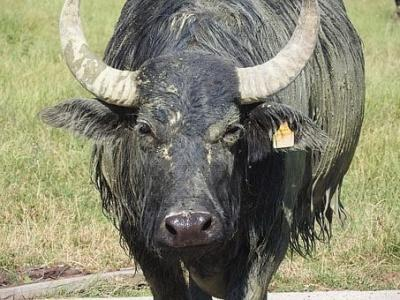buffalo: (38, 0, 366, 300)
